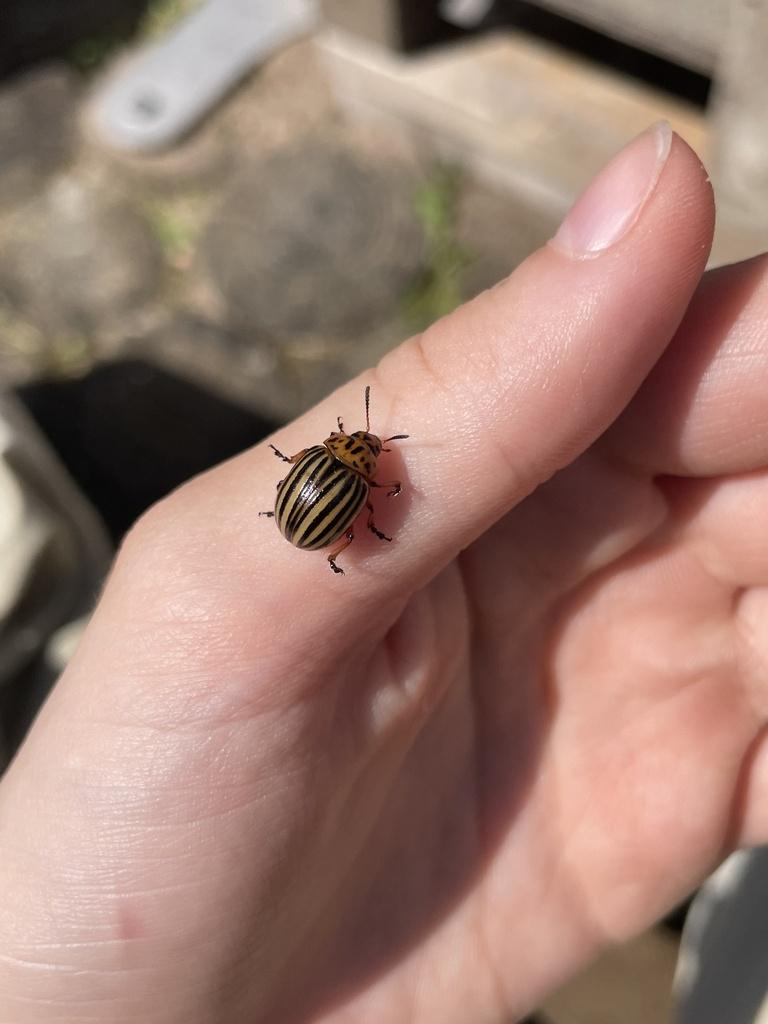potato_beetle: (236, 362, 469, 611)
